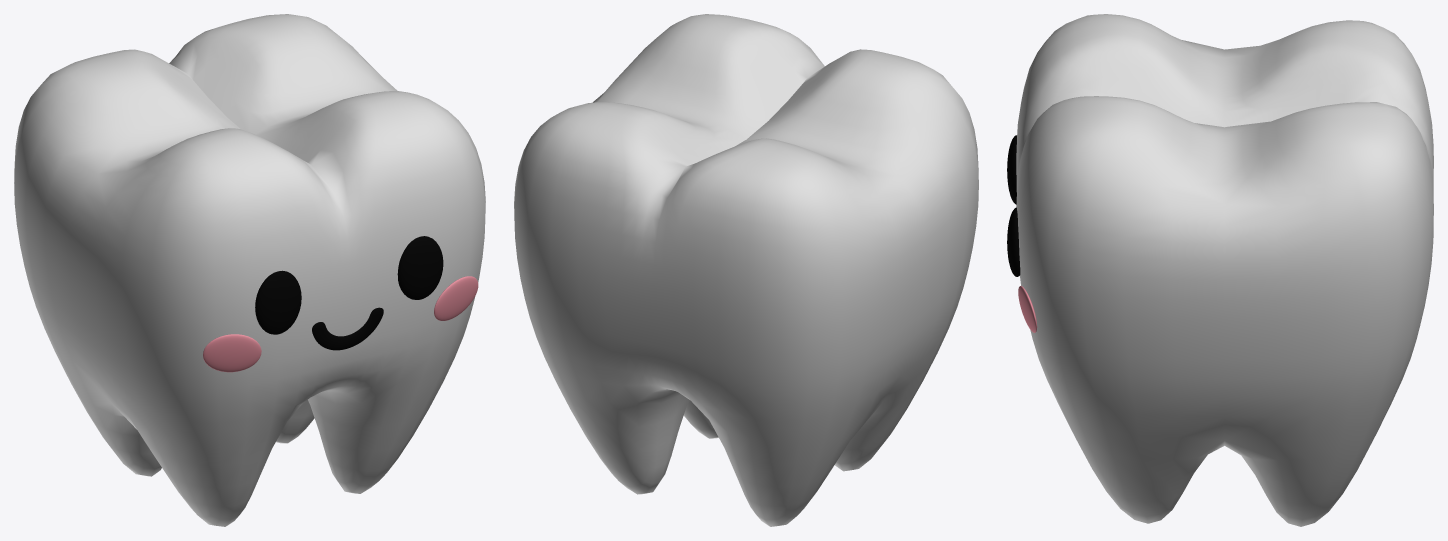
The model's file is gigisehat.glb.
3 renders of one model, left to right at view 1: azimuth 30°, elevation 25°; view 2: azimuth 150°, elevation 25°; view 3: azimuth 270°, elevation 25°, orthographic. The views are drawn at different scales.
Visible parts, largest first — view 1: Cube, Plane, Plane.001, Torus; view 2: Cube; view 3: Cube, Plane, Plane.001.
Part boxes in pixels (x1,y1,x2,y2): Cube: [14, 14, 485, 526]; Plane: [255, 236, 443, 334]; Plane.001: [203, 276, 478, 372]; Torus: [312, 307, 383, 350]; Cube: [514, 14, 978, 526]; Cube: [1016, 14, 1433, 526]; Plane: [1007, 135, 1020, 276]; Plane.001: [1018, 286, 1037, 332].
Bounding box in the file's own units: 2.57 × 2.75 × 2.51.
